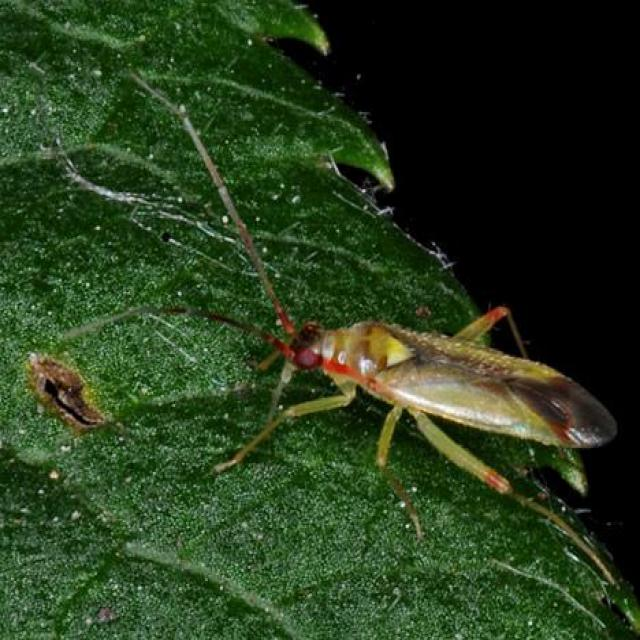Miridae-Adult-: (170, 105, 624, 498)
